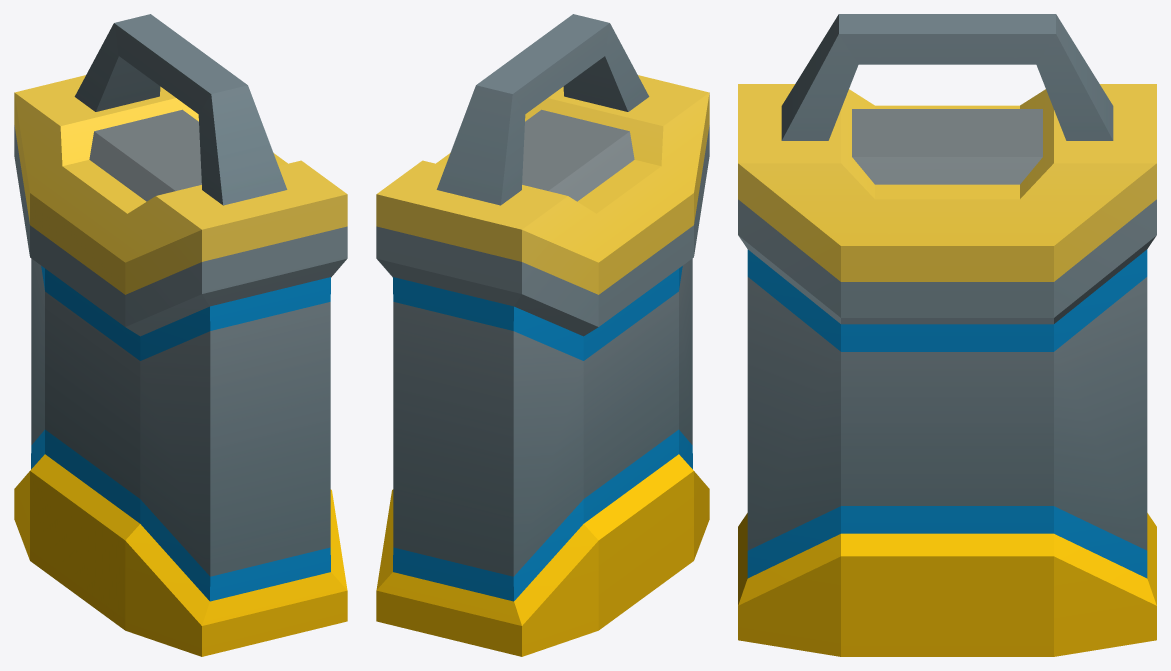
The model's file is Battery_010.fbx.
3 renders of one model, left to right at view 1: azimuth 30°, elevation 25°; view 2: azimuth 150°, elevation 25°; view 3: azimuth 270°, elevation 25°, orthographic. The views are drawn at different scales.
Parts seen in each view (by area): view 1: Battery_010; view 2: Battery_010; view 3: Battery_010.
Part boxes in pixels (x1,y1,x2,y2): Battery_010: (14,14,347,656); Battery_010: (376,14,709,656); Battery_010: (738,14,1156,656).
Bounding box in the file's own units: 33.1 × 52.01 × 79.04.
